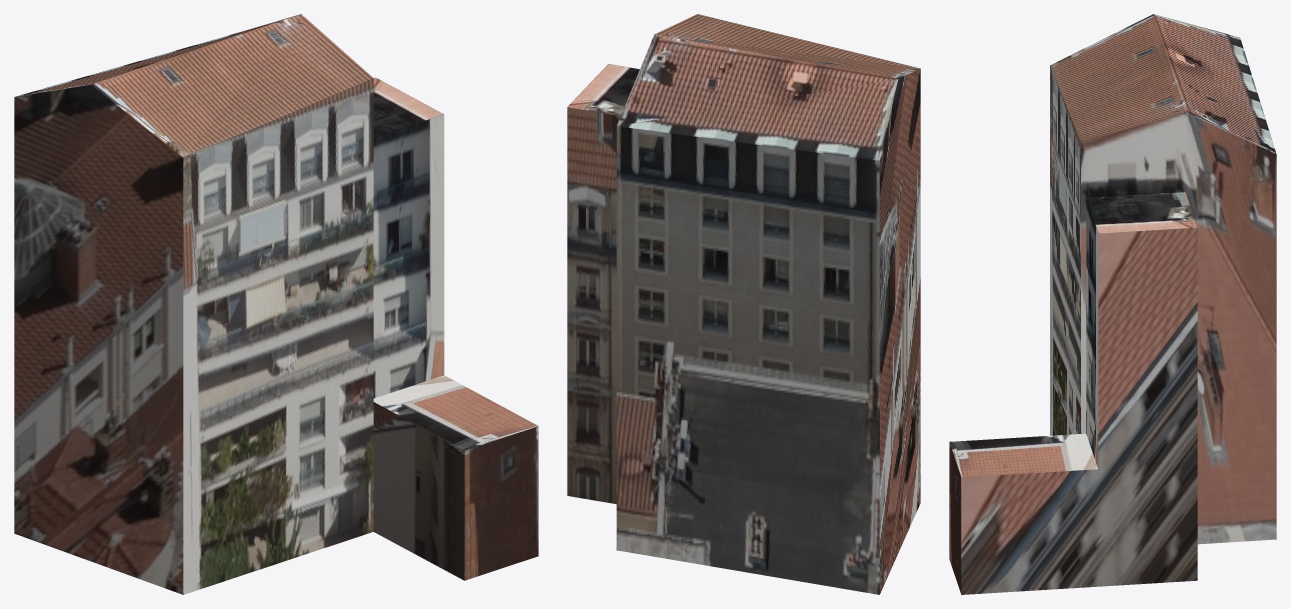
3 renders of one model, left to right at view 1: azimuth 30°, elevation 25°; view 2: azimuth 150°, elevation 25°; view 3: azimuth 270°, elevation 25°, orthographic. The views are drawn at different scales.
Visible parts, largest first — view 1: Z_UP; view 2: Z_UP; view 3: Z_UP.
Boxes of the visible parts, <box> form: Z_UP: <box>14,14,538,594</box>; Z_UP: <box>567,14,920,594</box>; Z_UP: <box>949,14,1276,594</box>.
Bounding box in the file's own units: 20.91 × 25.85 × 17.73.
Materials: 2 (1 with a texture image).
